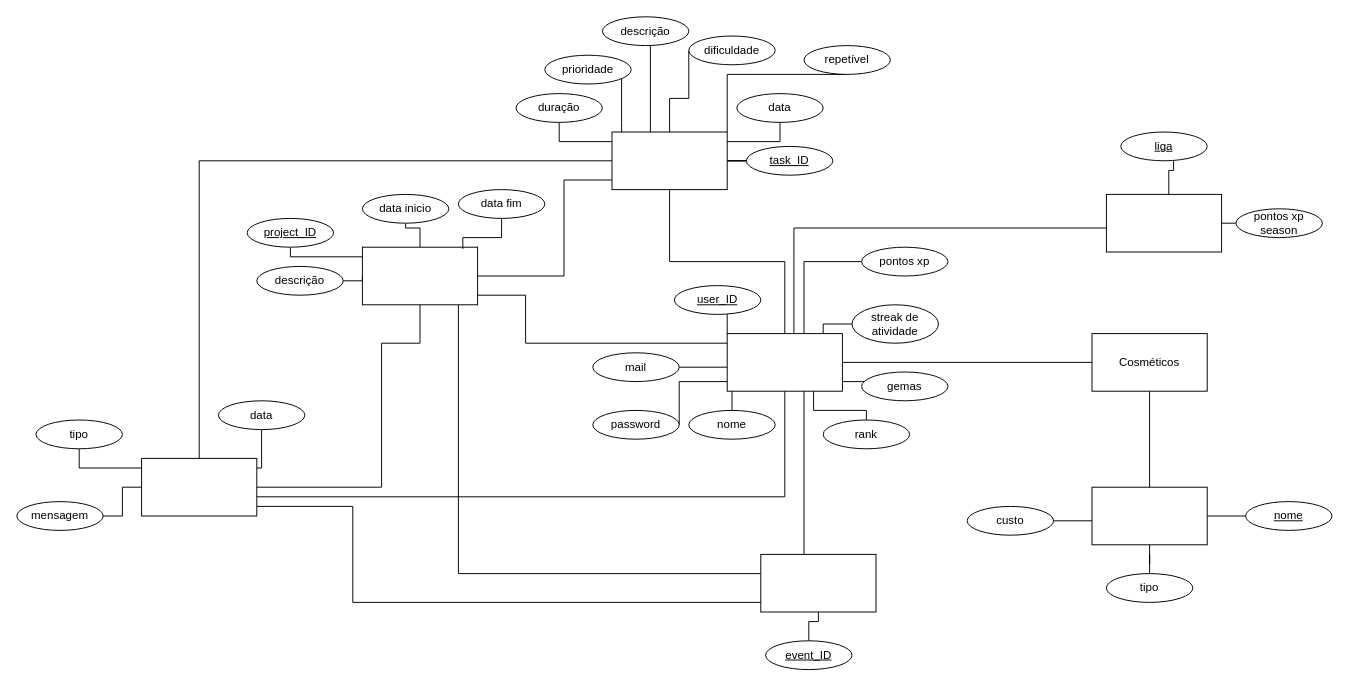
This 1349x686 diagram has some shape labels left out. Each missing label, with the centre of its shape:
Cosmético: the point at 1149,515
Evento: the point at 818,582
Leaderboard: the point at 1163,222
Notificação: the point at 199,486
Projeto: the point at 419,275
Tarefa: the point at 669,160
Utilizador: the point at 784,362
